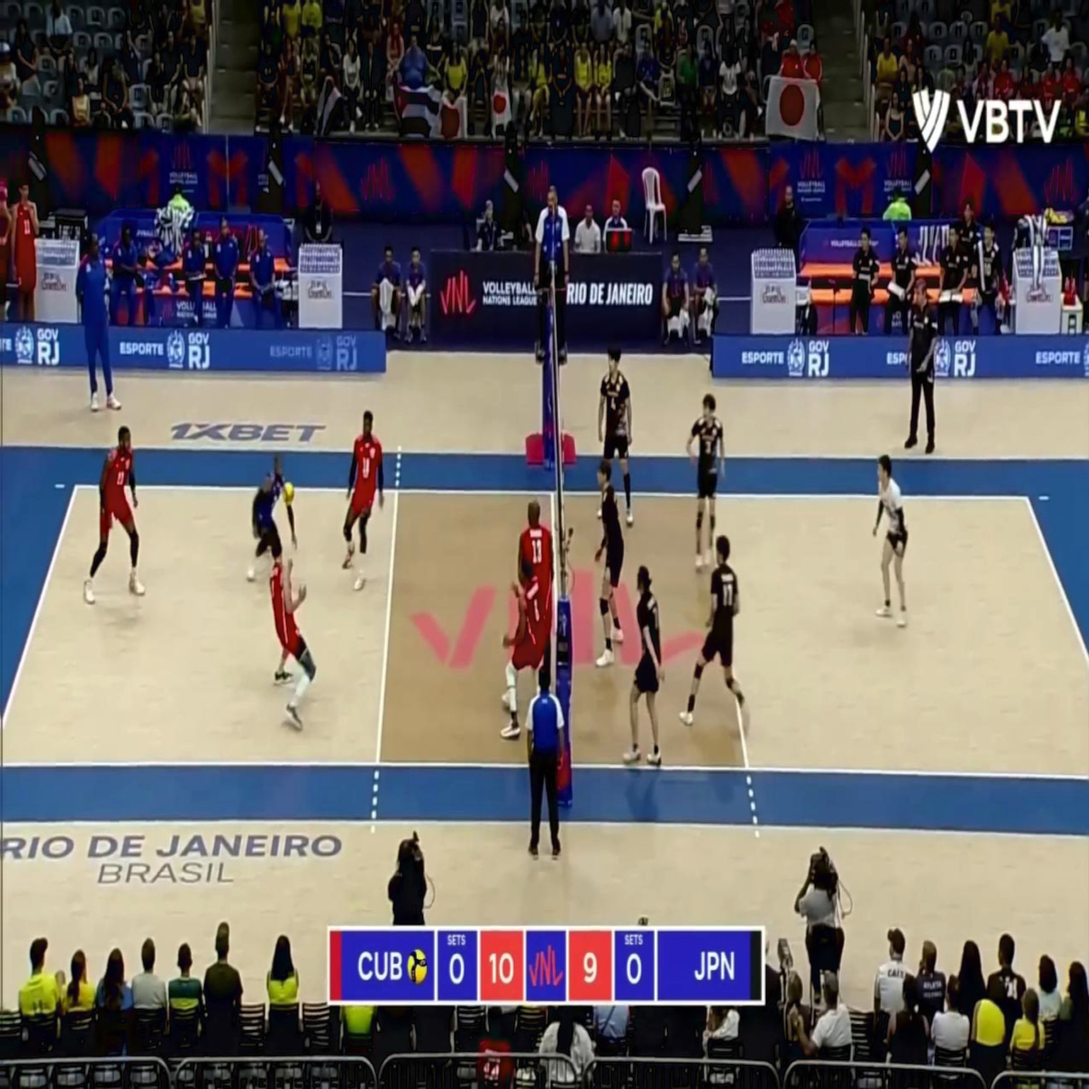ball: (281, 481, 294, 502)
